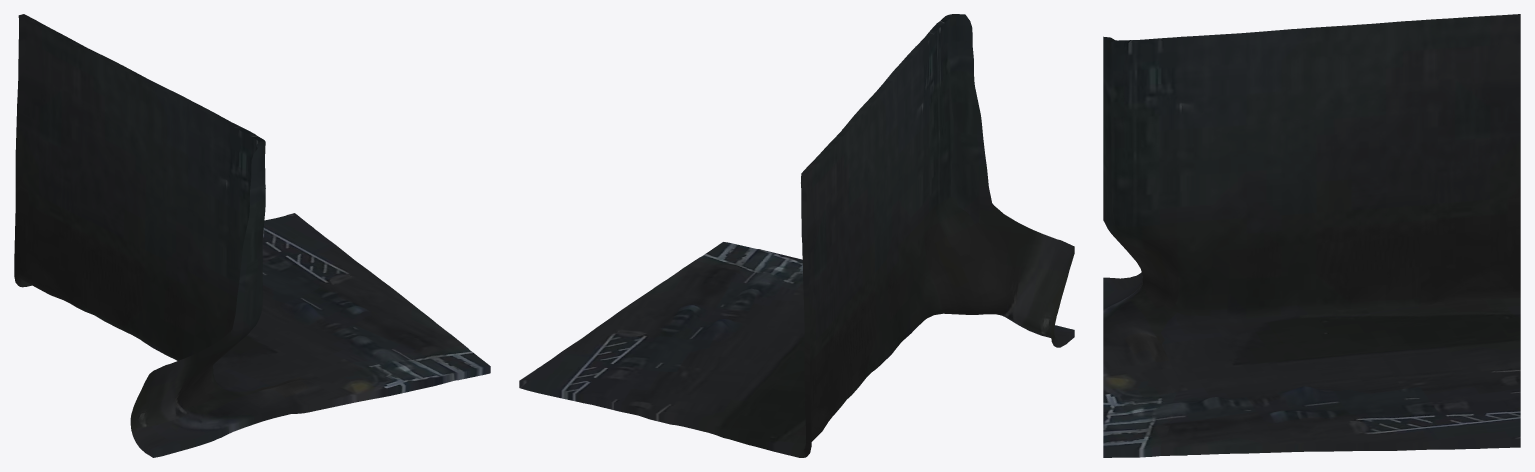
Rendered from z20-167772-405236-h0-yup-uvflip-v3-world.glb.
The picture shows the model from 3 angles, left to right: view 1: azimuth 30°, elevation 25°; view 2: azimuth 150°, elevation 25°; view 3: azimuth 270°, elevation 25°; orthographic projection. The views are drawn at different scales.
Size of the model in its own units: 30.16 by 24.36 by 30.32.
Materials: 1 (1 with a texture image).
